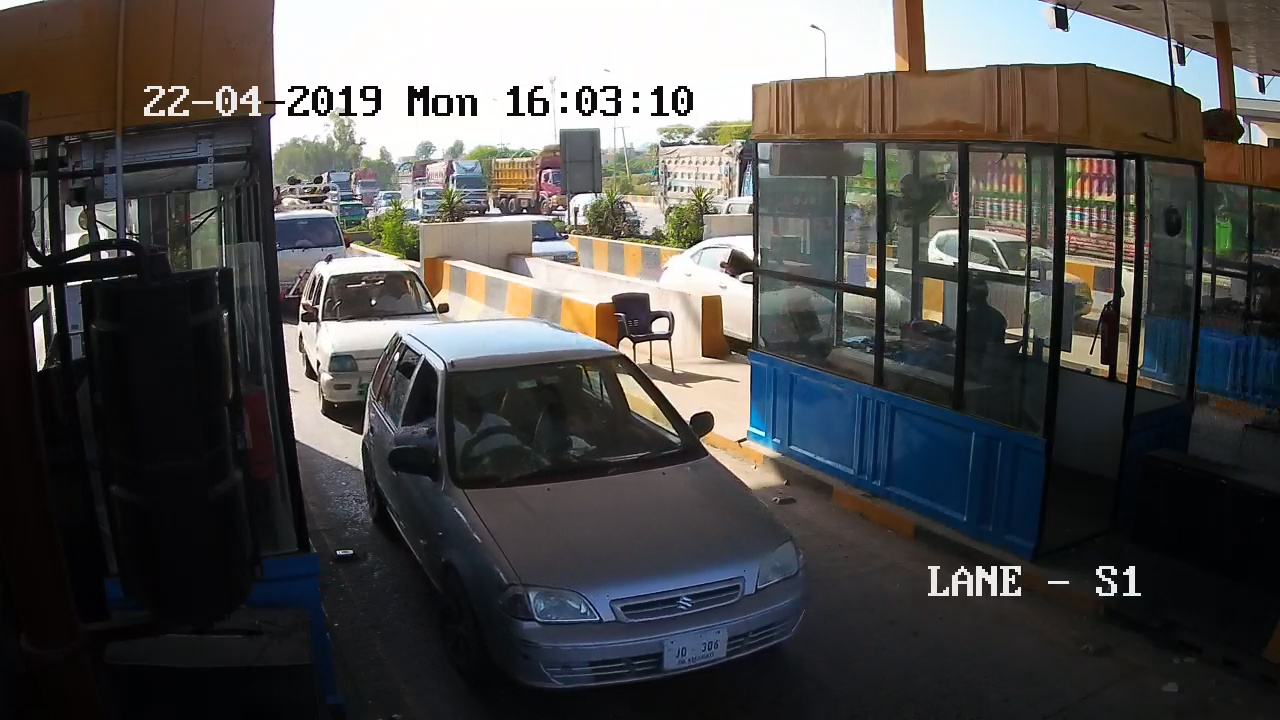Number Plate (Car): (664, 631, 731, 668)
